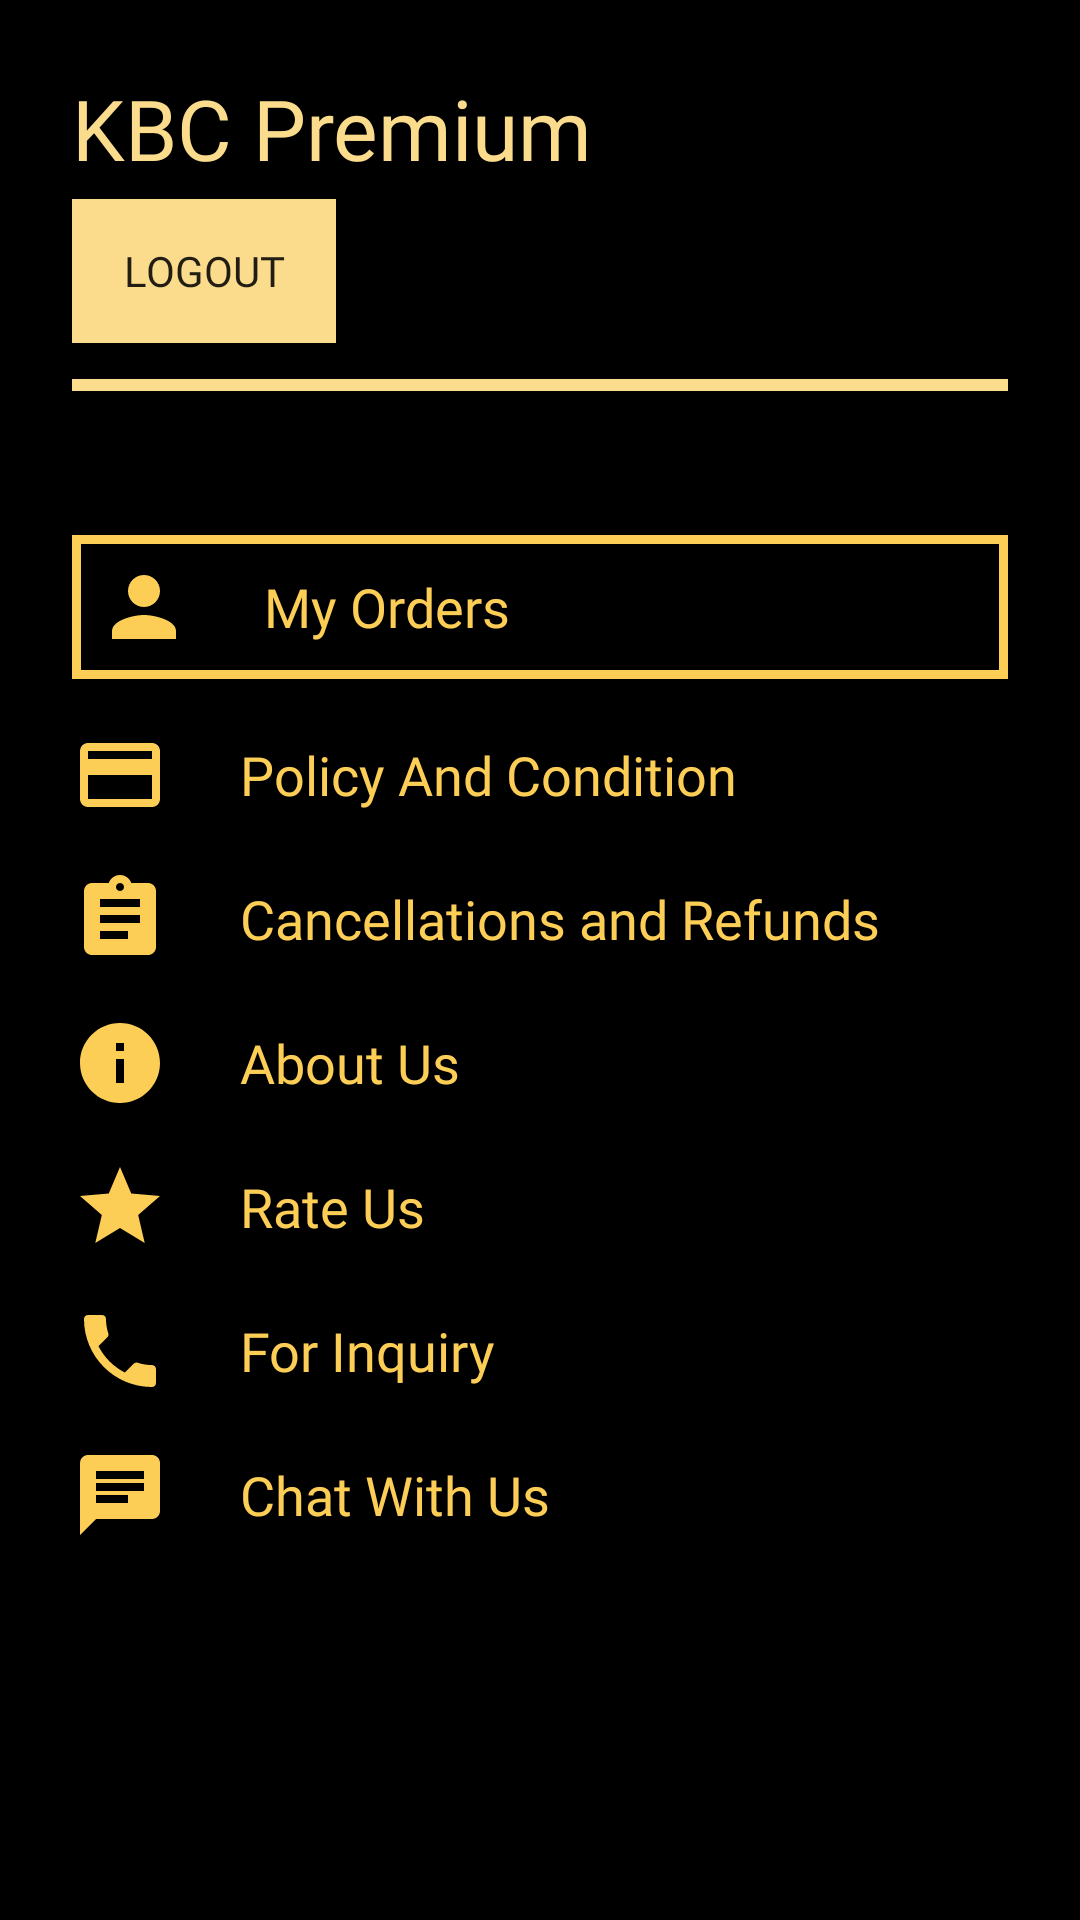

Icons on this 1080px x 1920px Android screen, each with its box as (x1=x1, y1=y1, x2=x2, y2=y2):
assignment: (x1=84, y1=875, x2=156, y2=955)
calll: (x1=84, y1=1315, x2=156, y2=1387)
credit card: (x1=80, y1=743, x2=160, y2=807)
info: (x1=80, y1=1023, x2=160, y2=1103)
star: (x1=80, y1=1167, x2=160, y2=1243)
